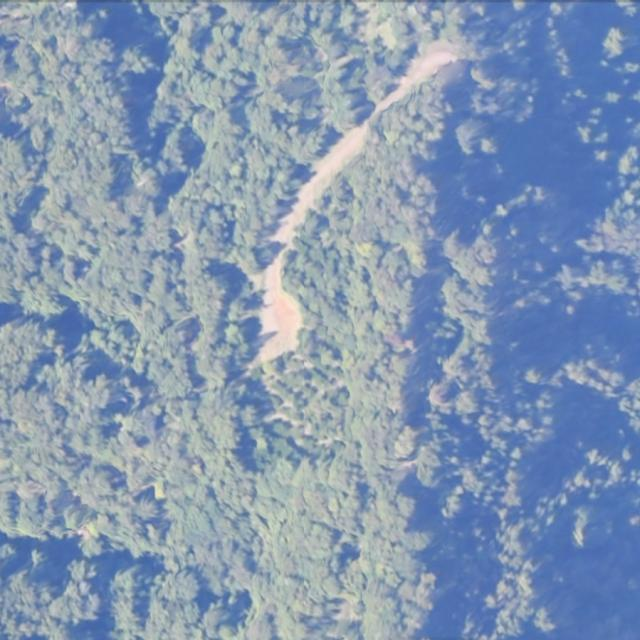landslide: (248, 40, 461, 371)
